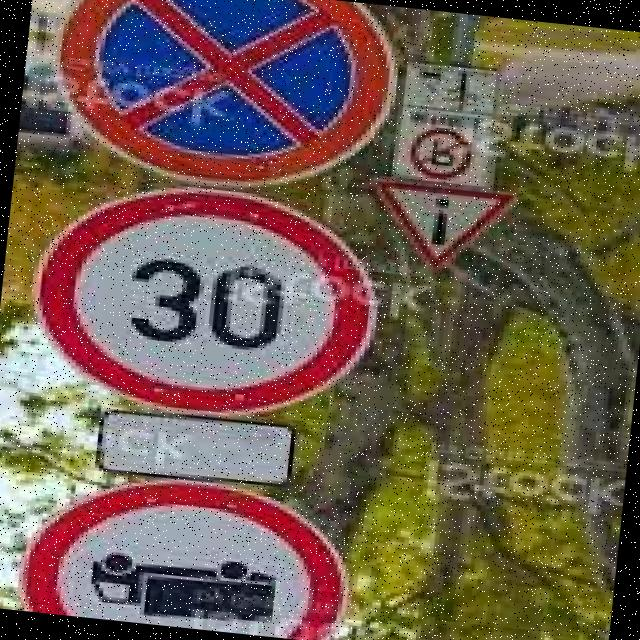do_not_enter: (0, 463, 399, 640)
no_parking: (15, 0, 396, 203)
warning: (368, 173, 525, 282)
